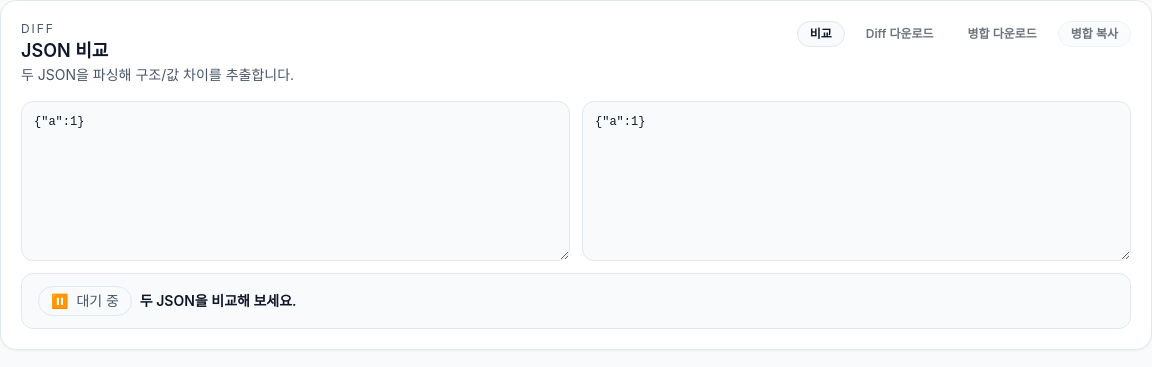
Test case: JsonDiffViewer › shows identical message when inputs are same
Click the button "비교" at {"x": 821, "y": 34}, box [797, 21, 845, 47]
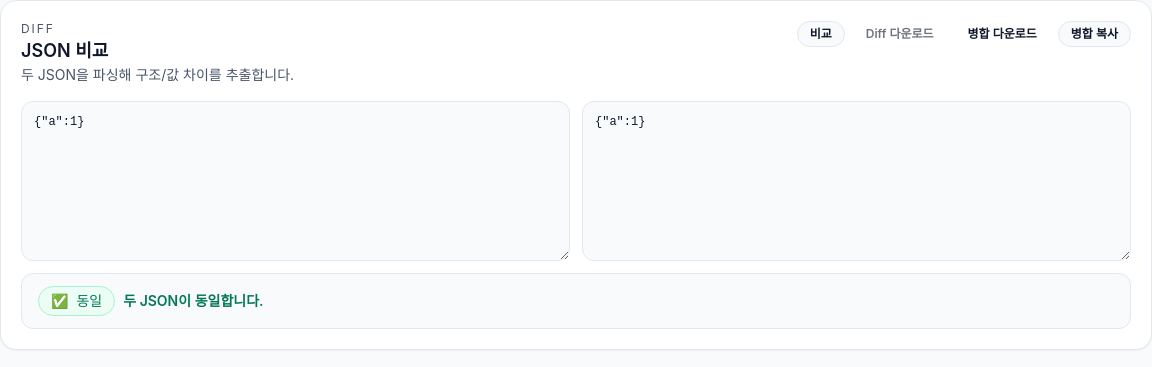
Result: the text "동일합니다" is shown at [123, 292, 264, 309]
